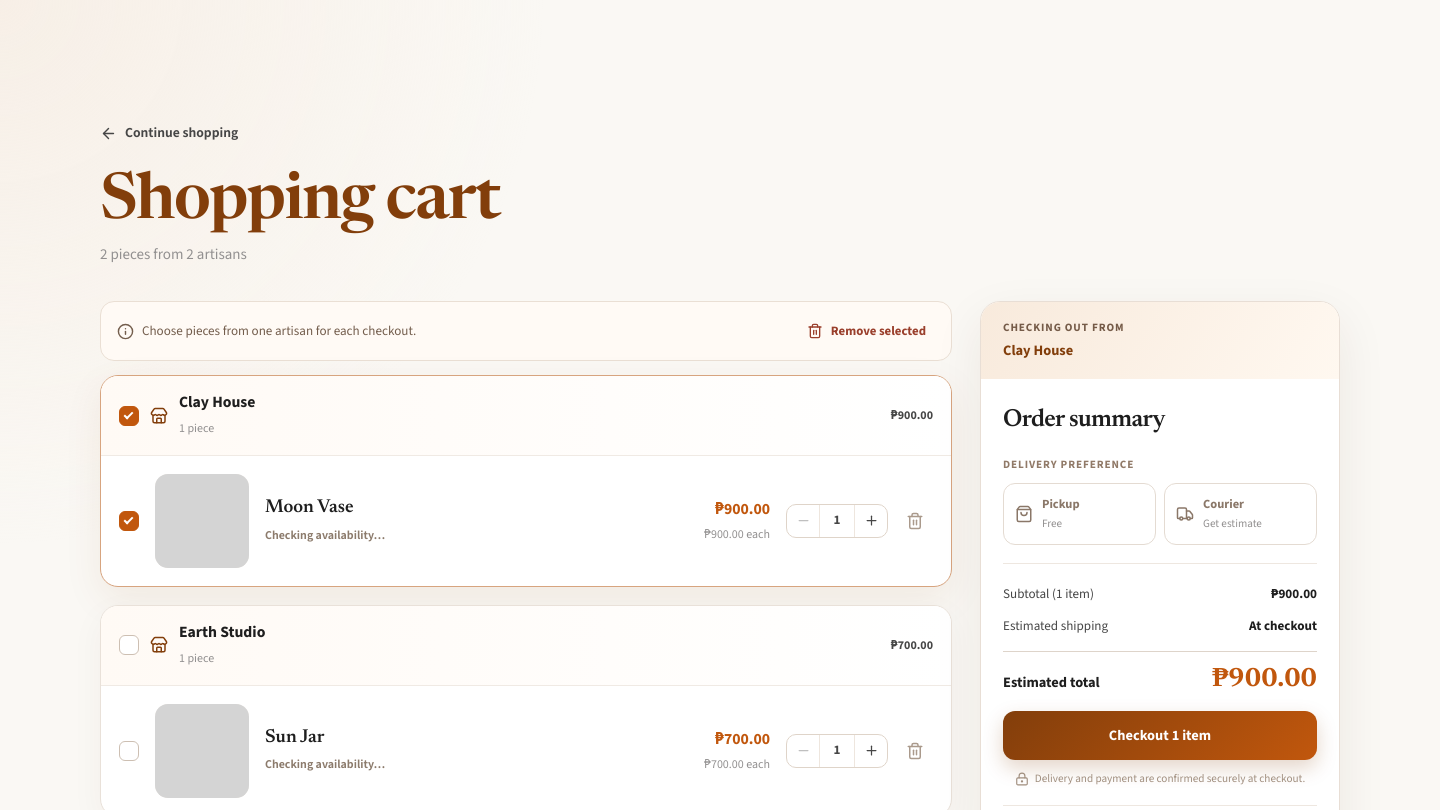
Test case: CartPage guest shop flow › invalidates a courier estimate after quantity changes
Expected: the link "Moon Vase" is shown, [265,498,354,517]
Click the button "Courier Get estimate".
click(1240, 514)  # box [1164,483,1317,545]
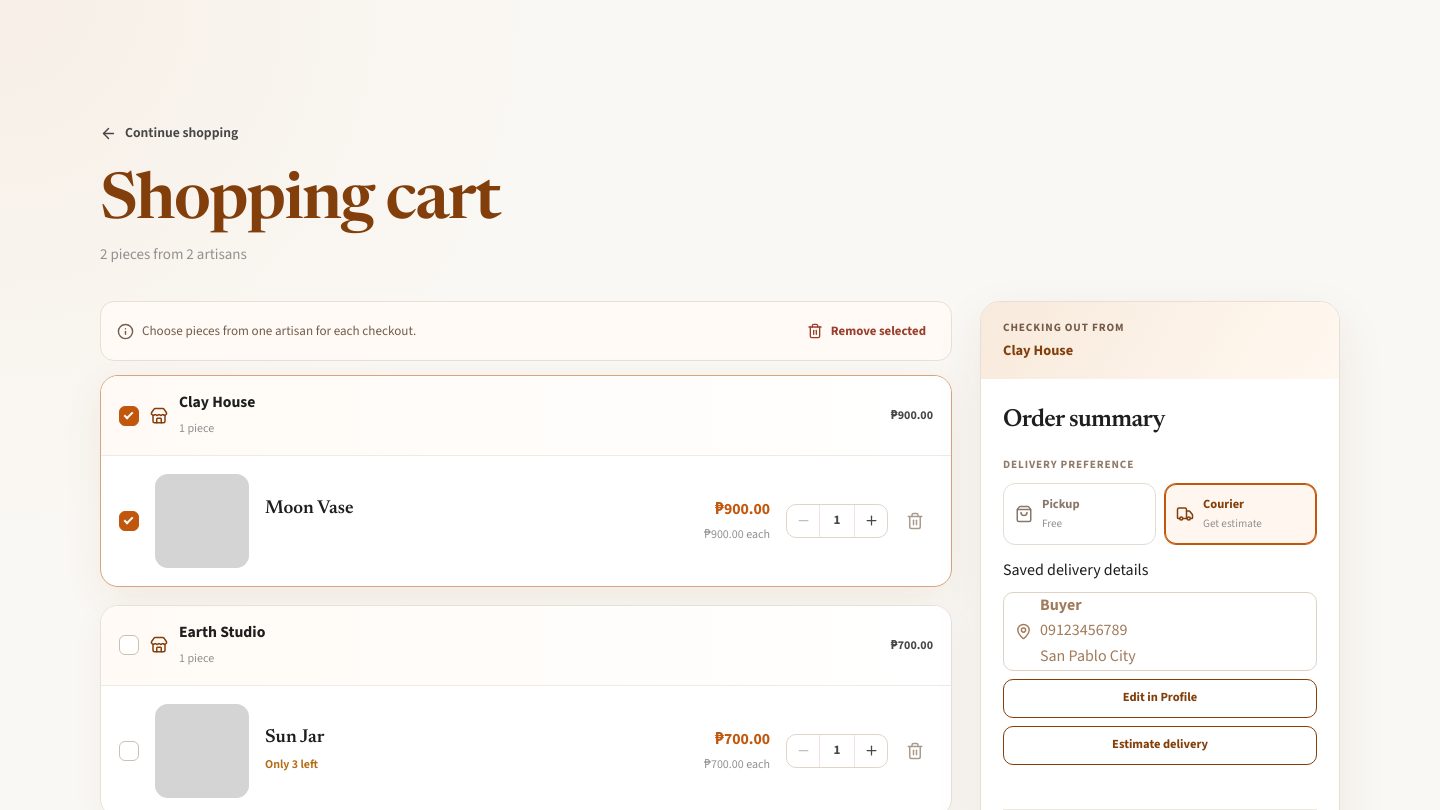
Expected: the text "San Pablo City" is shown, [1040,644,1136,670]
Click the button "Estimate delivery".
click(1160, 745)  # box [1003,726,1317,765]
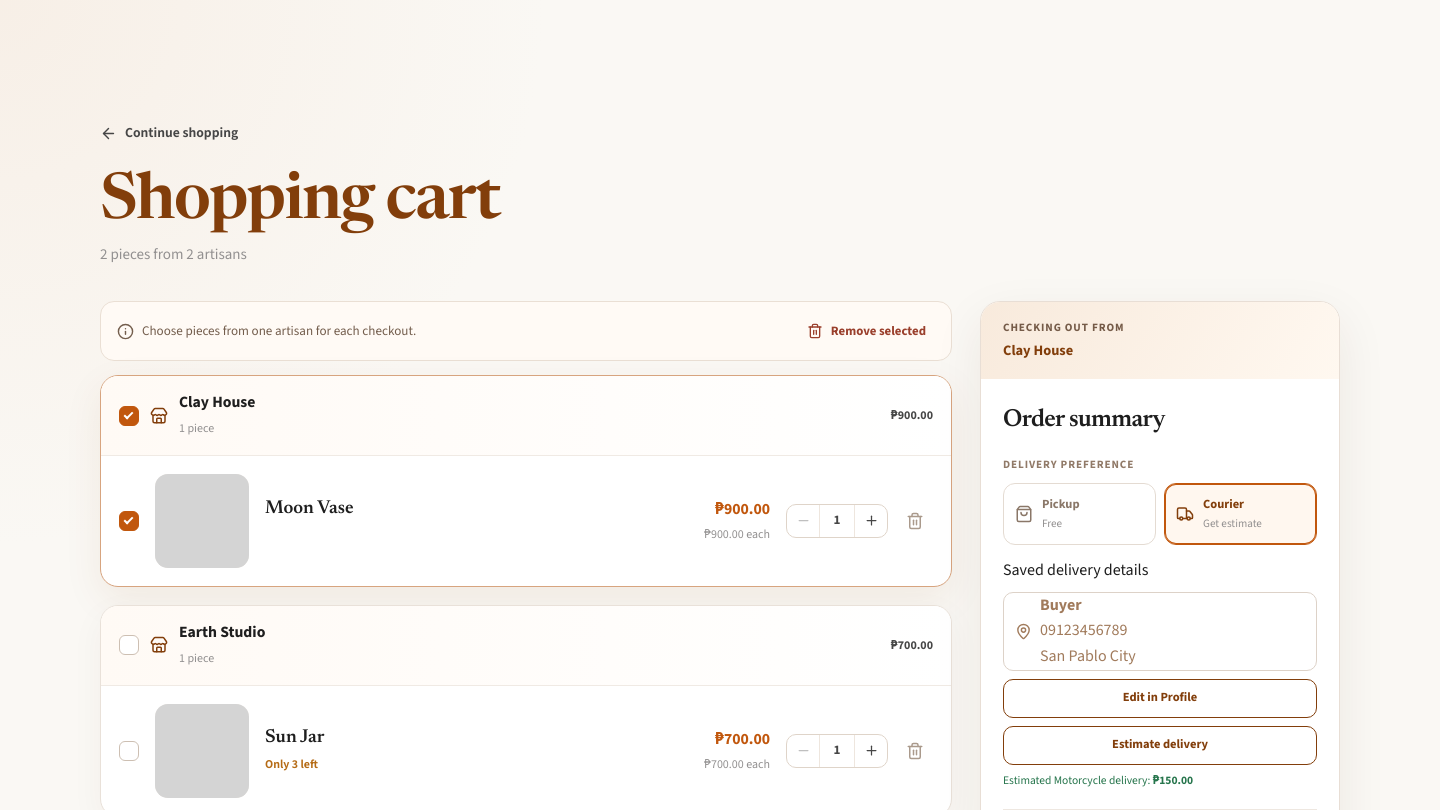
Expected: the text "Estimated Motorcycle delivery: ₱150.00" is shown, [1003,772,1193,789]
Click the button named "Increase quantity of Moon Vase".
click(871, 521)  # box [855,505,887,537]
(page scrolled)
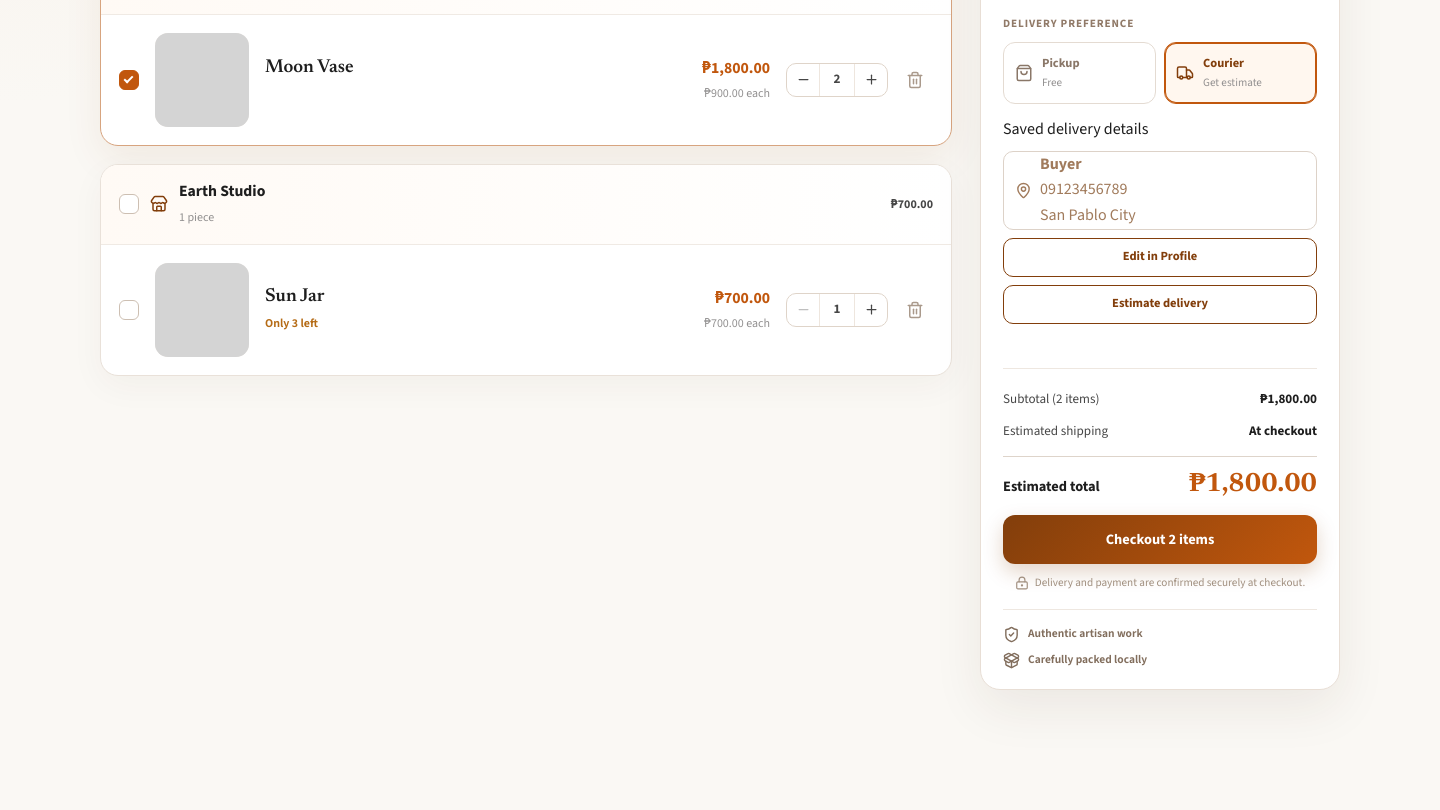
Expected: the text "At checkout" is shown, [1249,421,1317,442]
Expected: the text "Estimated Motorcycle delivery" is gone
